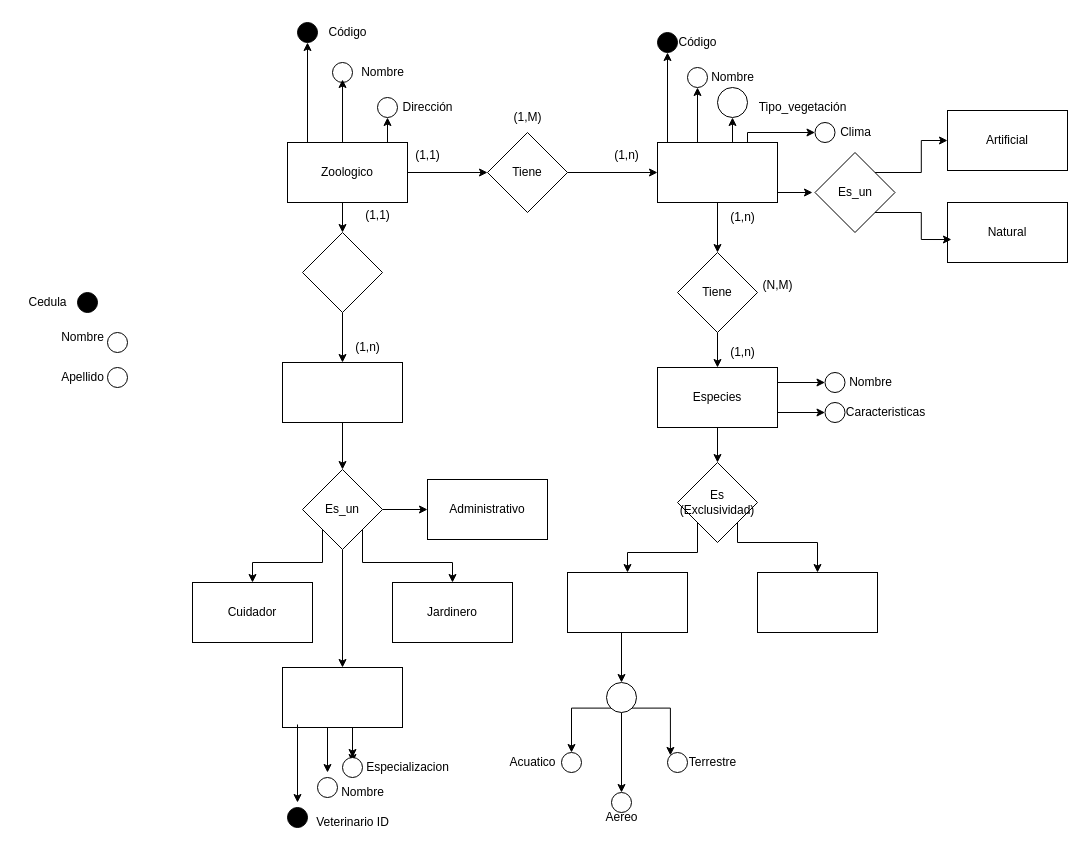
The diagram is 1085 pixels wide and 854 high, and some of its shapes have lost their labels. The shapes that lost their labels are listed below. From the top down, each one's box as (x1, y1, x2, y2) in pixels, then its label:
(656, 142, 778, 202): Habitad
(302, 232, 382, 312): laboran
(282, 362, 402, 422): Trabajador
(566, 572, 688, 632): Animal
(756, 572, 878, 632): Vegetal
(282, 666, 402, 728): Veterinario
